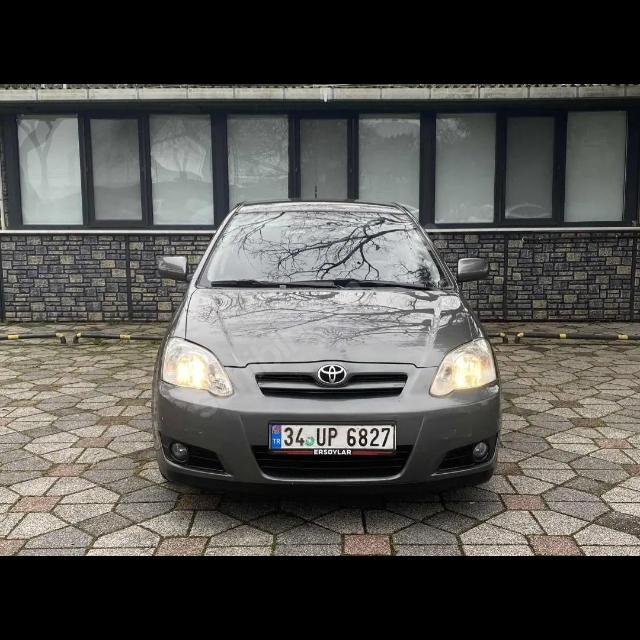Plaka: (271, 424, 395, 452)
